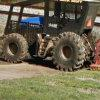Tractor: (5, 3, 93, 73)
